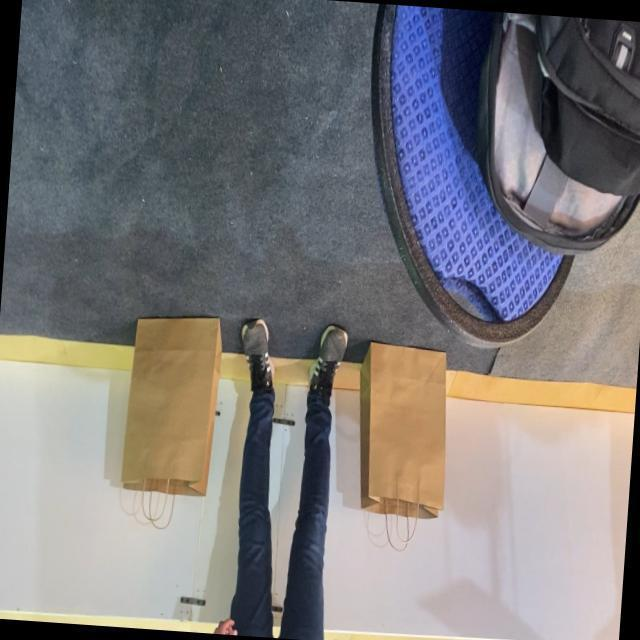Paper_Bag: (116, 310, 225, 532), (347, 340, 455, 554)
